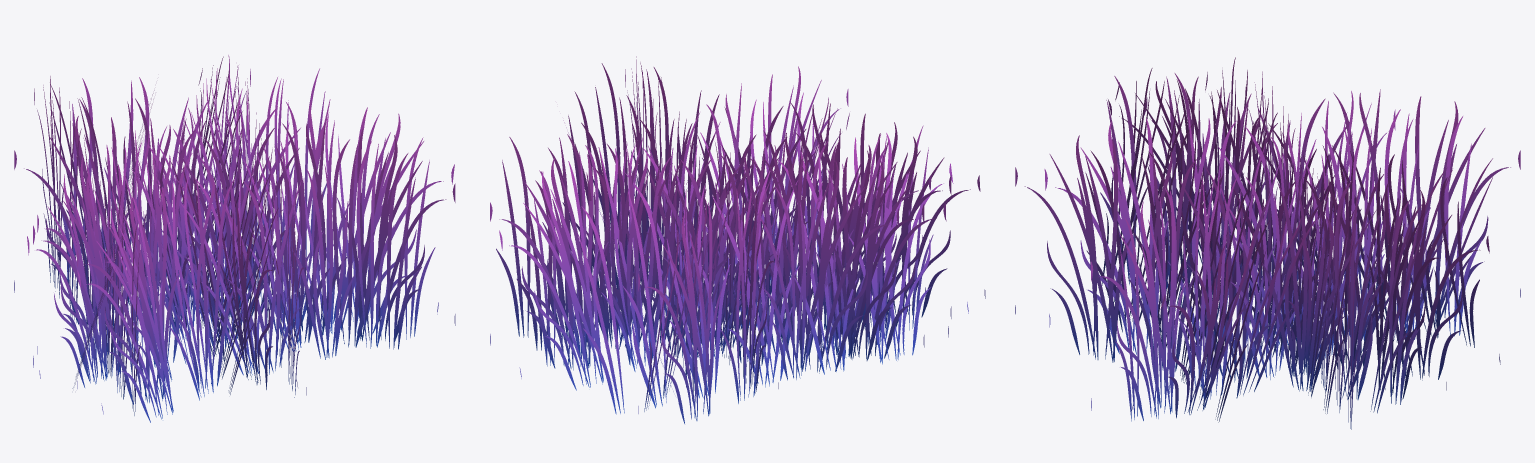
Rendered from GrassPatch_Tall_A.FBX.
3 views of the same model, side by side, from view 1: azimuth 30°, elevation 25°; view 2: azimuth 150°, elevation 25°; view 3: azimuth 270°, elevation 25° (orthographic). The views are drawn at different scales.
Visible parts, largest first — view 1: GrassPatch_Tall_A; view 2: GrassPatch_Tall_A; view 3: GrassPatch_Tall_A.
Boxes of the visible parts, x1,y1,x2,y2 form: GrassPatch_Tall_A: (14, 55, 455, 422); GrassPatch_Tall_A: (490, 56, 985, 423); GrassPatch_Tall_A: (1015, 57, 1520, 429).
Size of the model in its own units: 2.19 by 1.16 by 2.16.
